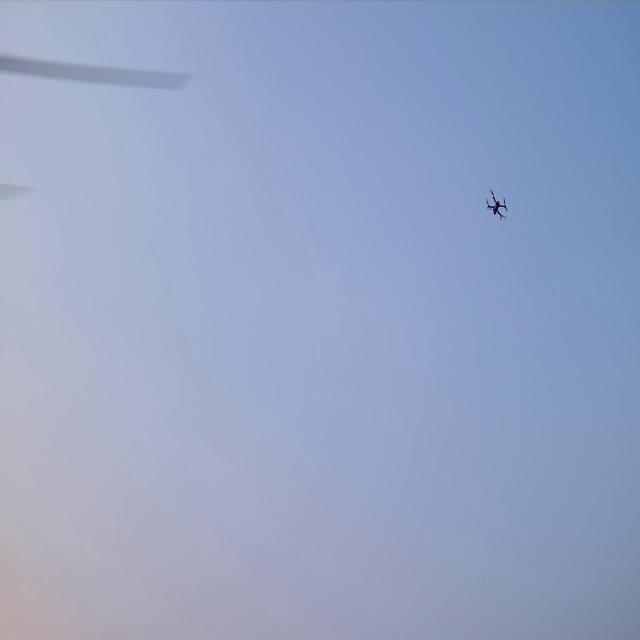UAV: (485, 188, 509, 221)
